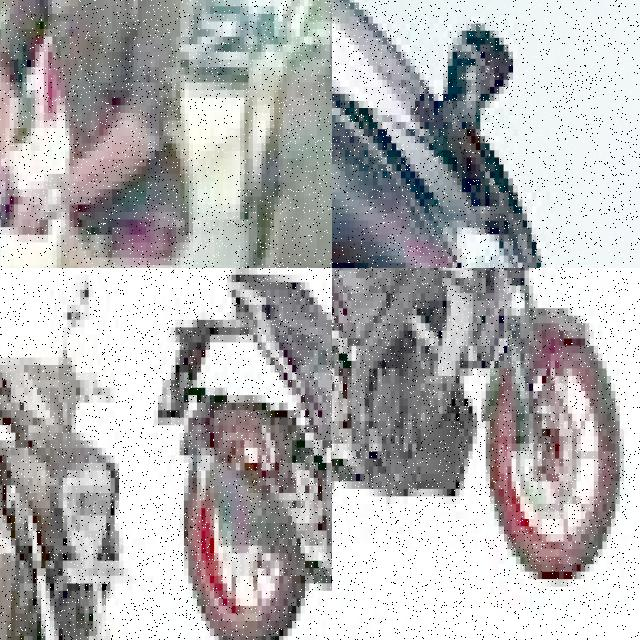bike: (332, 268, 624, 594), (332, 0, 639, 268), (175, 268, 332, 640), (0, 342, 179, 640), (0, 204, 65, 268)
